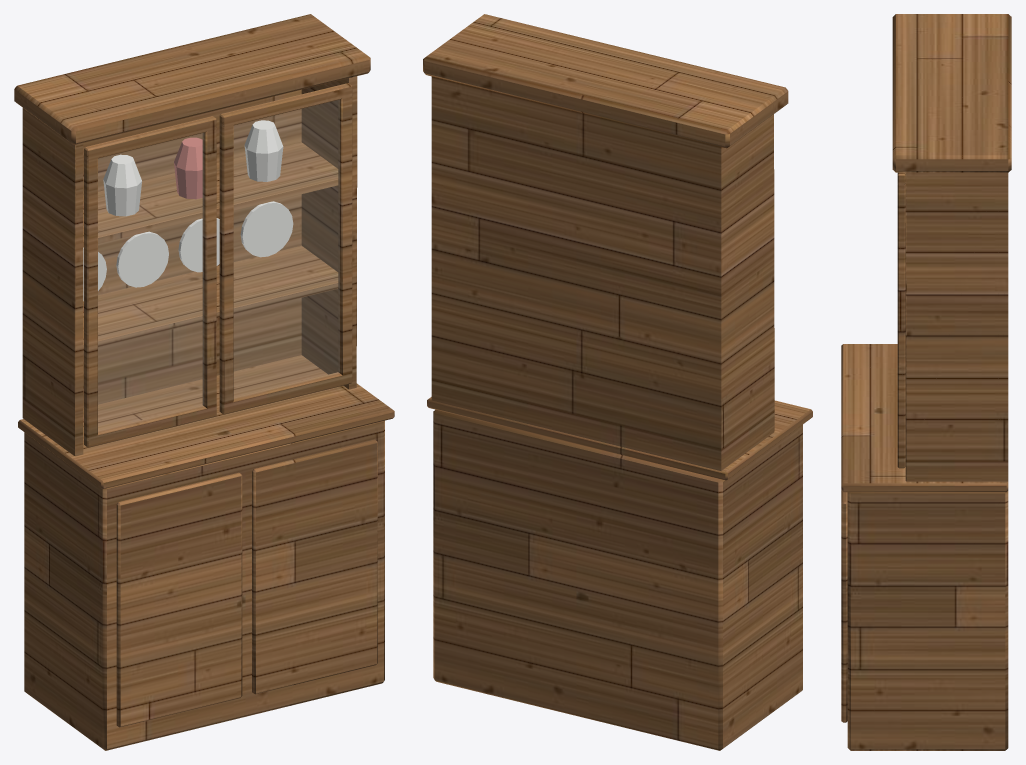
The model's file is hutch.glb.
3 renders of one model, left to right at view 1: azimuth 30°, elevation 25°; view 2: azimuth 150°, elevation 25°; view 3: azimuth 270°, elevation 25°, orthographic. The views are drawn at different scales.
Parts seen in each view (by area): view 1: hutch_wood, hutch_glass, hutch_enamel, hutch_quilt; view 2: hutch_wood; view 3: hutch_wood.
Boxes of the visible parts, <box> form: hutch_wood: <box>14,14,394,750</box>; hutch_glass: <box>98,100,339,431</box>; hutch_enamel: <box>83,120,293,301</box>; hutch_quilt: <box>174,137,202,199</box>; hutch_wood: <box>423,14,812,750</box>; hutch_wood: <box>841,14,1011,750</box>.
Size of the model in its own units: 1.06 by 2.06 by 0.53.
4 materials, 1 textured.
